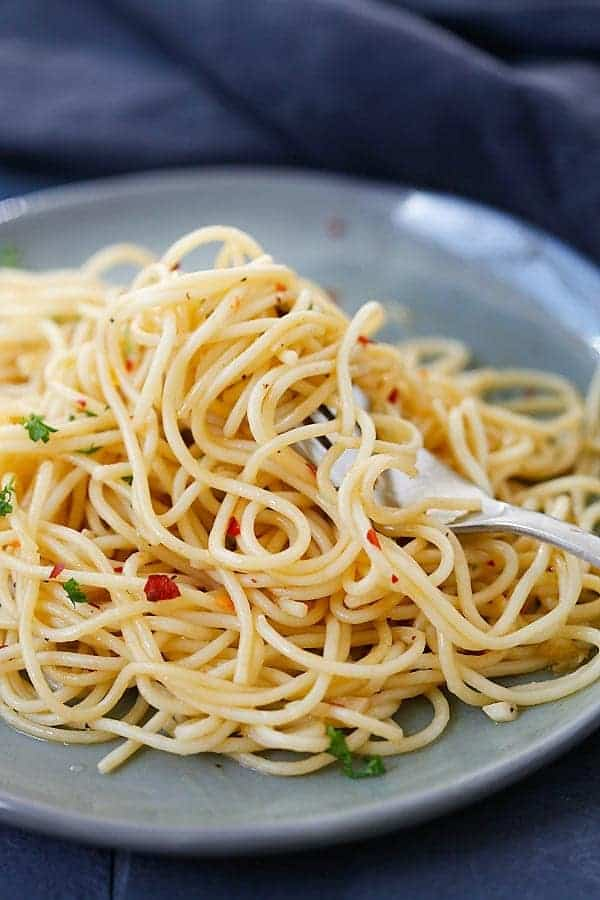plain spaghetti: (59, 334, 334, 725)
